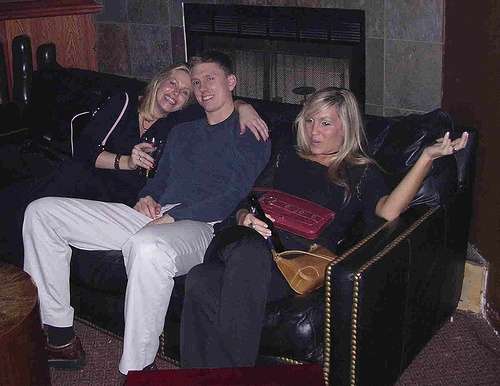head: (299, 88, 354, 158), (189, 56, 240, 112), (155, 63, 190, 122)
person: (181, 84, 470, 375), (19, 52, 271, 376), (7, 59, 189, 201)
